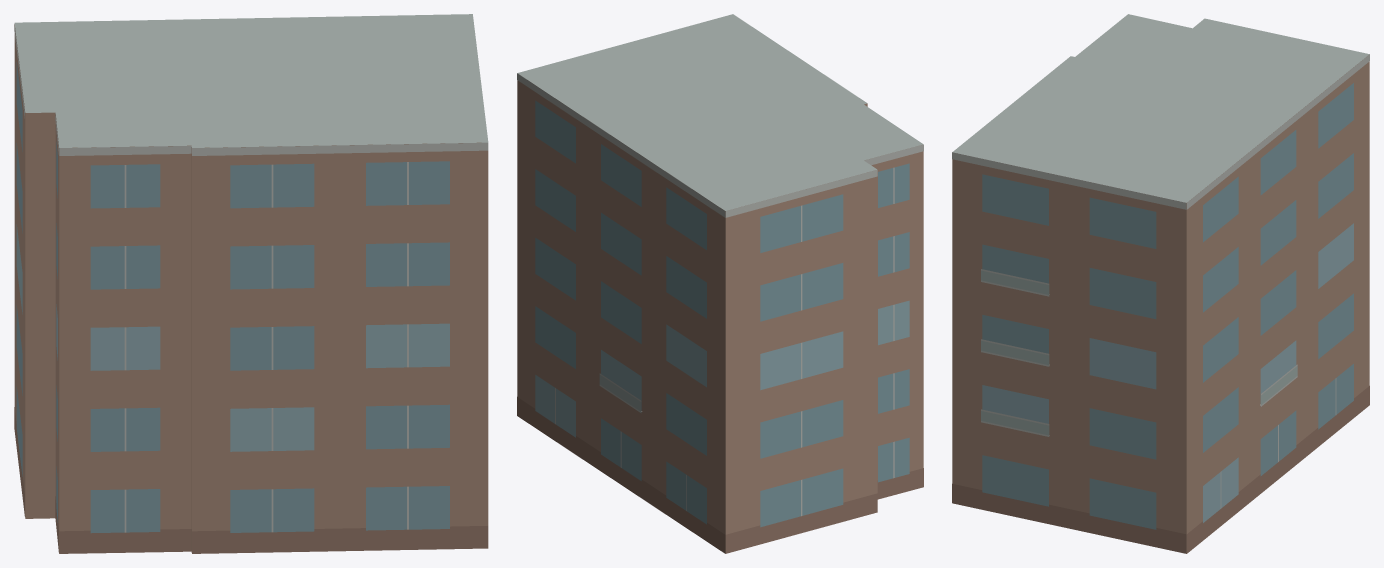
File: survey-upis-32925234.glb
3 renders of one model, left to right at view 1: azimuth 30°, elevation 25°; view 2: azimuth 150°, elevation 25°; view 3: azimuth 270°, elevation 25°, orthographic. The views are drawn at different scales.
Parts seen in each view (by area): view 1: survey-upis-32925234.tmp; view 2: survey-upis-32925234.tmp; view 3: survey-upis-32925234.tmp.
Boxes of the visible parts, x1=… form: survey-upis-32925234.tmp: x1=14, y1=14, x2=488, y2=553; survey-upis-32925234.tmp: x1=517, y1=14, x2=923, y2=553; survey-upis-32925234.tmp: x1=952, y1=14, x2=1369, y2=553.
Bounding box in the file's own units: 14.15 × 12.25 × 13.22.
